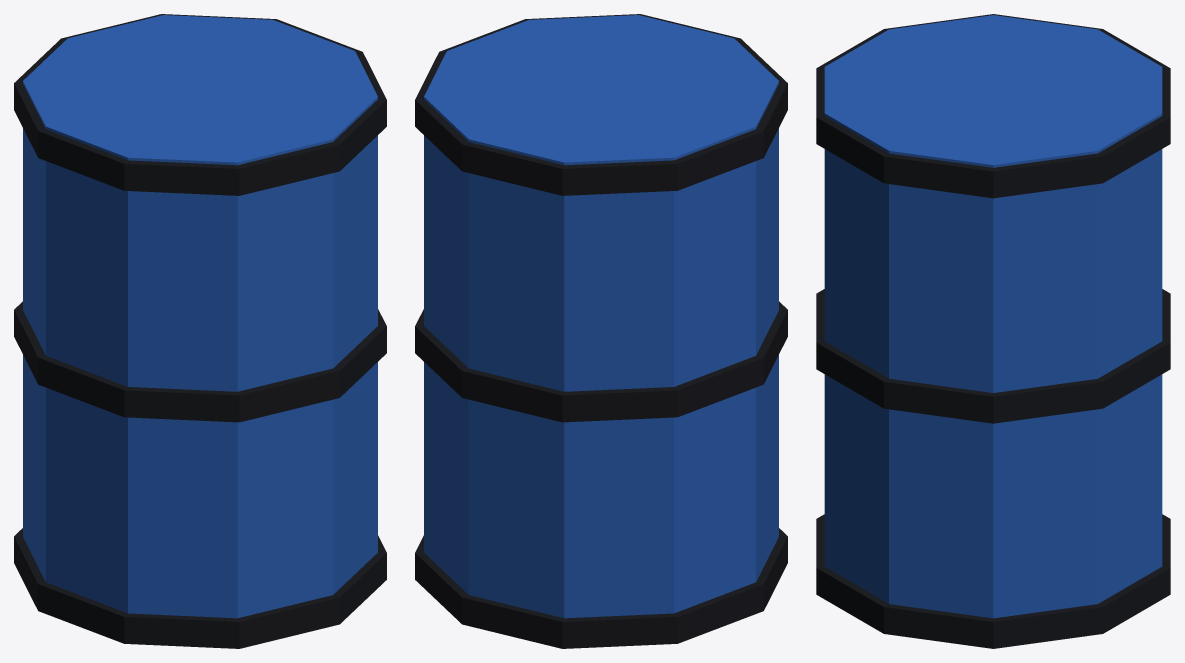
File: prop_barrel.glb
The picture shows the model from 3 angles, left to right: view 1: azimuth 30°, elevation 25°; view 2: azimuth 150°, elevation 25°; view 3: azimuth 270°, elevation 25°; orthographic projection.
Parts seen in each view (by area): view 1: prop_barrel__mesh; view 2: prop_barrel__mesh; view 3: prop_barrel__mesh.
Boxes of the visible parts, x1,y1,x2,y2 form: prop_barrel__mesh: [14, 14, 386, 648]; prop_barrel__mesh: [415, 14, 787, 648]; prop_barrel__mesh: [816, 14, 1170, 648].
Bounding box in the file's own units: 0.63 × 0.9 × 0.5992.
